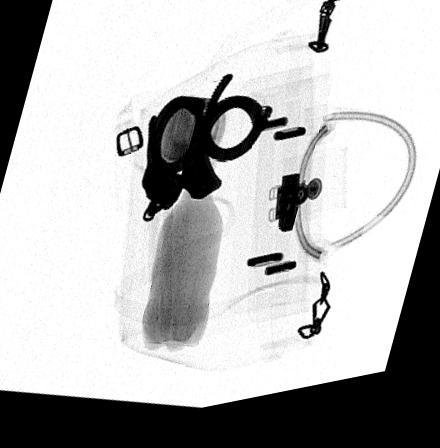HandCuffs: (138, 78, 266, 230)
